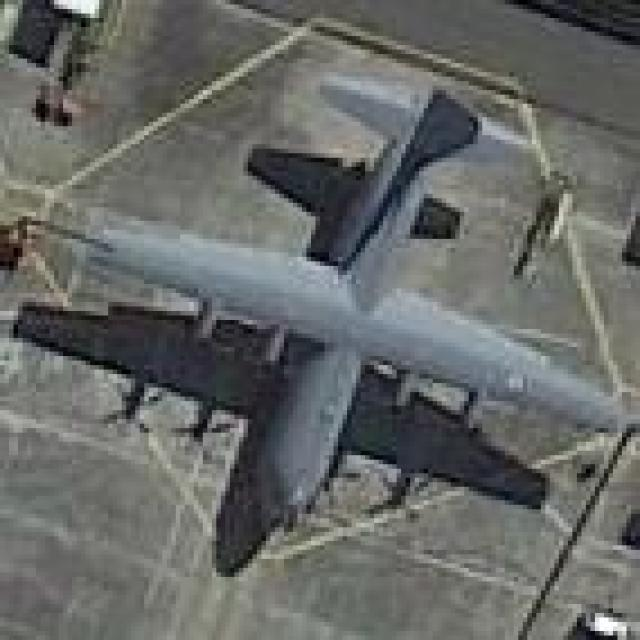C-130_TopDown: (5, 75, 636, 580)
